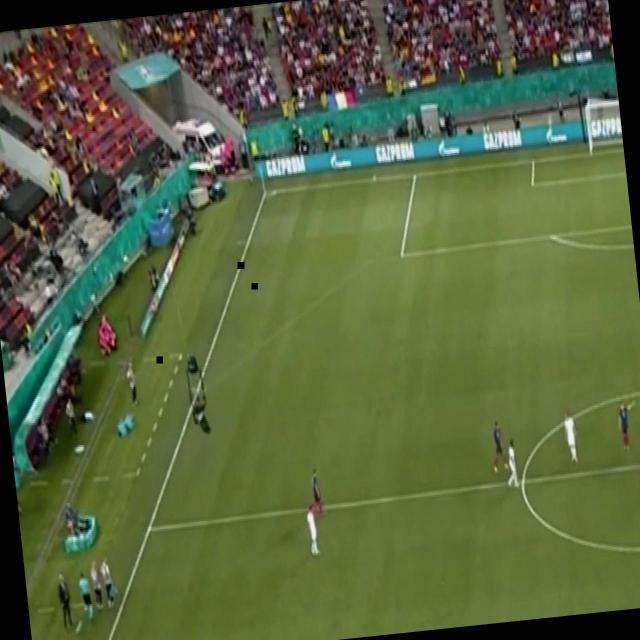player-white: (613, 393, 640, 452), (486, 417, 512, 476), (75, 566, 98, 628), (560, 409, 584, 468), (306, 466, 328, 526), (500, 436, 522, 492), (302, 499, 322, 559)
